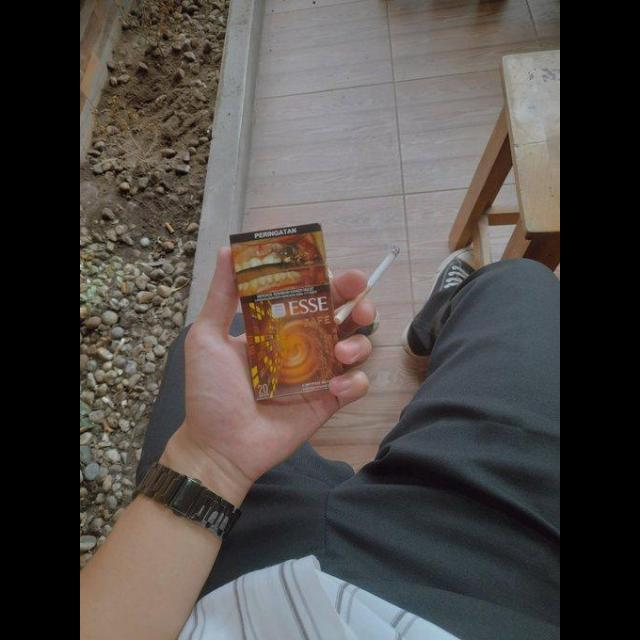rokok: (331, 244, 403, 326)
